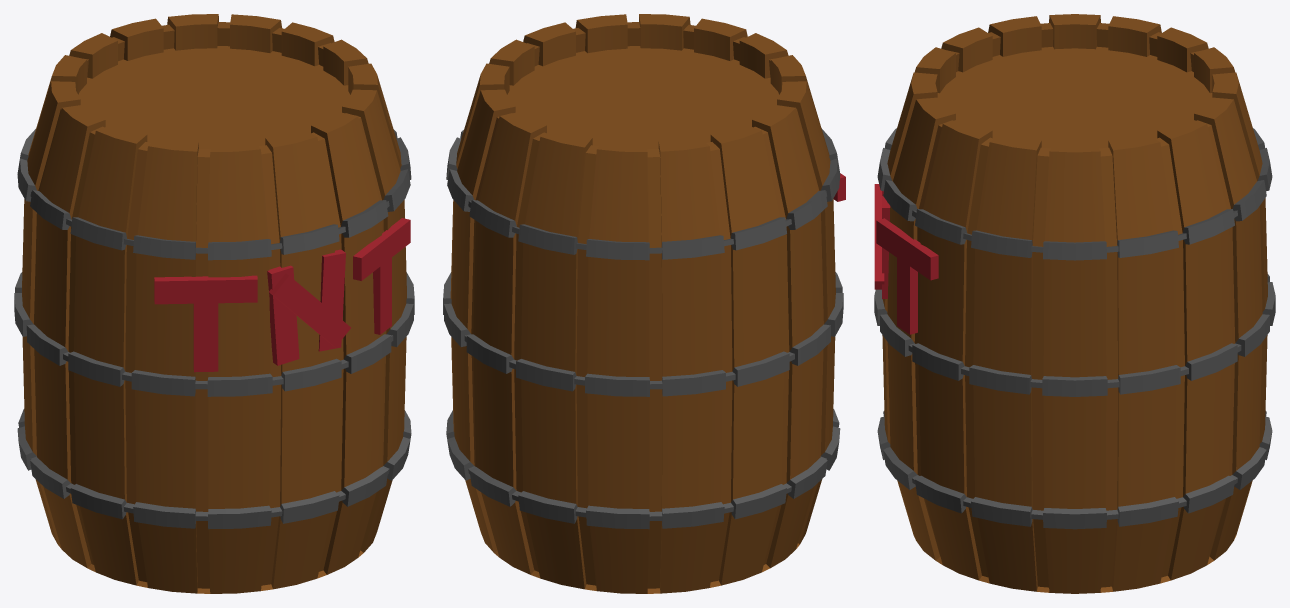
File: 3DAHoddddduse.fbx
The picture shows the model from 3 angles, left to right: view 1: azimuth 30°, elevation 25°; view 2: azimuth 150°, elevation 25°; view 3: azimuth 270°, elevation 25°; orthographic projection.
Parts seen in each view (by area): view 1: Cylinder, Cube, Cube.007, Cube.003, Cube.001, Cube.004; view 2: Cylinder; view 3: Cylinder, Cube.007, Cube.003.
Part boxes in pixels (box(x1,y1,x2,y2)): Cylinder: box(14, 14, 414, 593); Cube: box(154, 275, 257, 372); Cube.007: box(353, 218, 410, 334); Cube.003: box(269, 273, 350, 347); Cube.001: box(267, 265, 299, 365); Cube.004: box(318, 249, 345, 351); Cylinder: box(443, 14, 843, 593); Cylinder: box(874, 14, 1275, 593); Cube.007: box(876, 218, 938, 334); Cube.003: box(874, 184, 884, 289).
Bounding box in the file's own units: 78.06 × 94.73 × 78.06.
